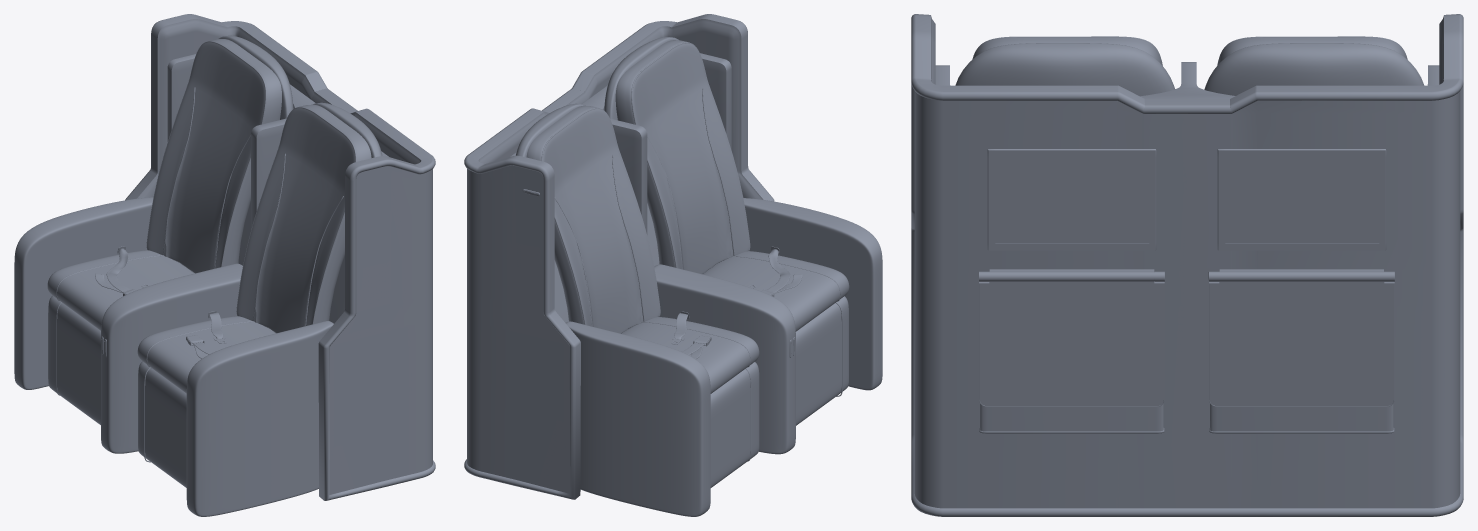
File: seat-business-middle.glb
3 renders of one model, left to right at view 1: azimuth 30°, elevation 25°; view 2: azimuth 150°, elevation 25°; view 3: azimuth 270°, elevation 25°, orthographic. The views are drawn at different scales.
Parts seen in each view (by area): view 1: Business-Middle, Seat; view 2: Business-Middle, Seat; view 3: Business-Middle.
Part boxes in pixels (left/top/right/bottom): Business-Middle: left=14, top=14, right=435, bottom=516; Seat: left=47, top=250, right=275, bottom=393; Business-Middle: left=464, top=14, right=882, bottom=516; Seat: left=622, top=251, right=849, bottom=393; Business-Middle: left=911, top=14, right=1463, bottom=516.
Size of the model in its own units: 1.07 by 1.34 by 1.5.
